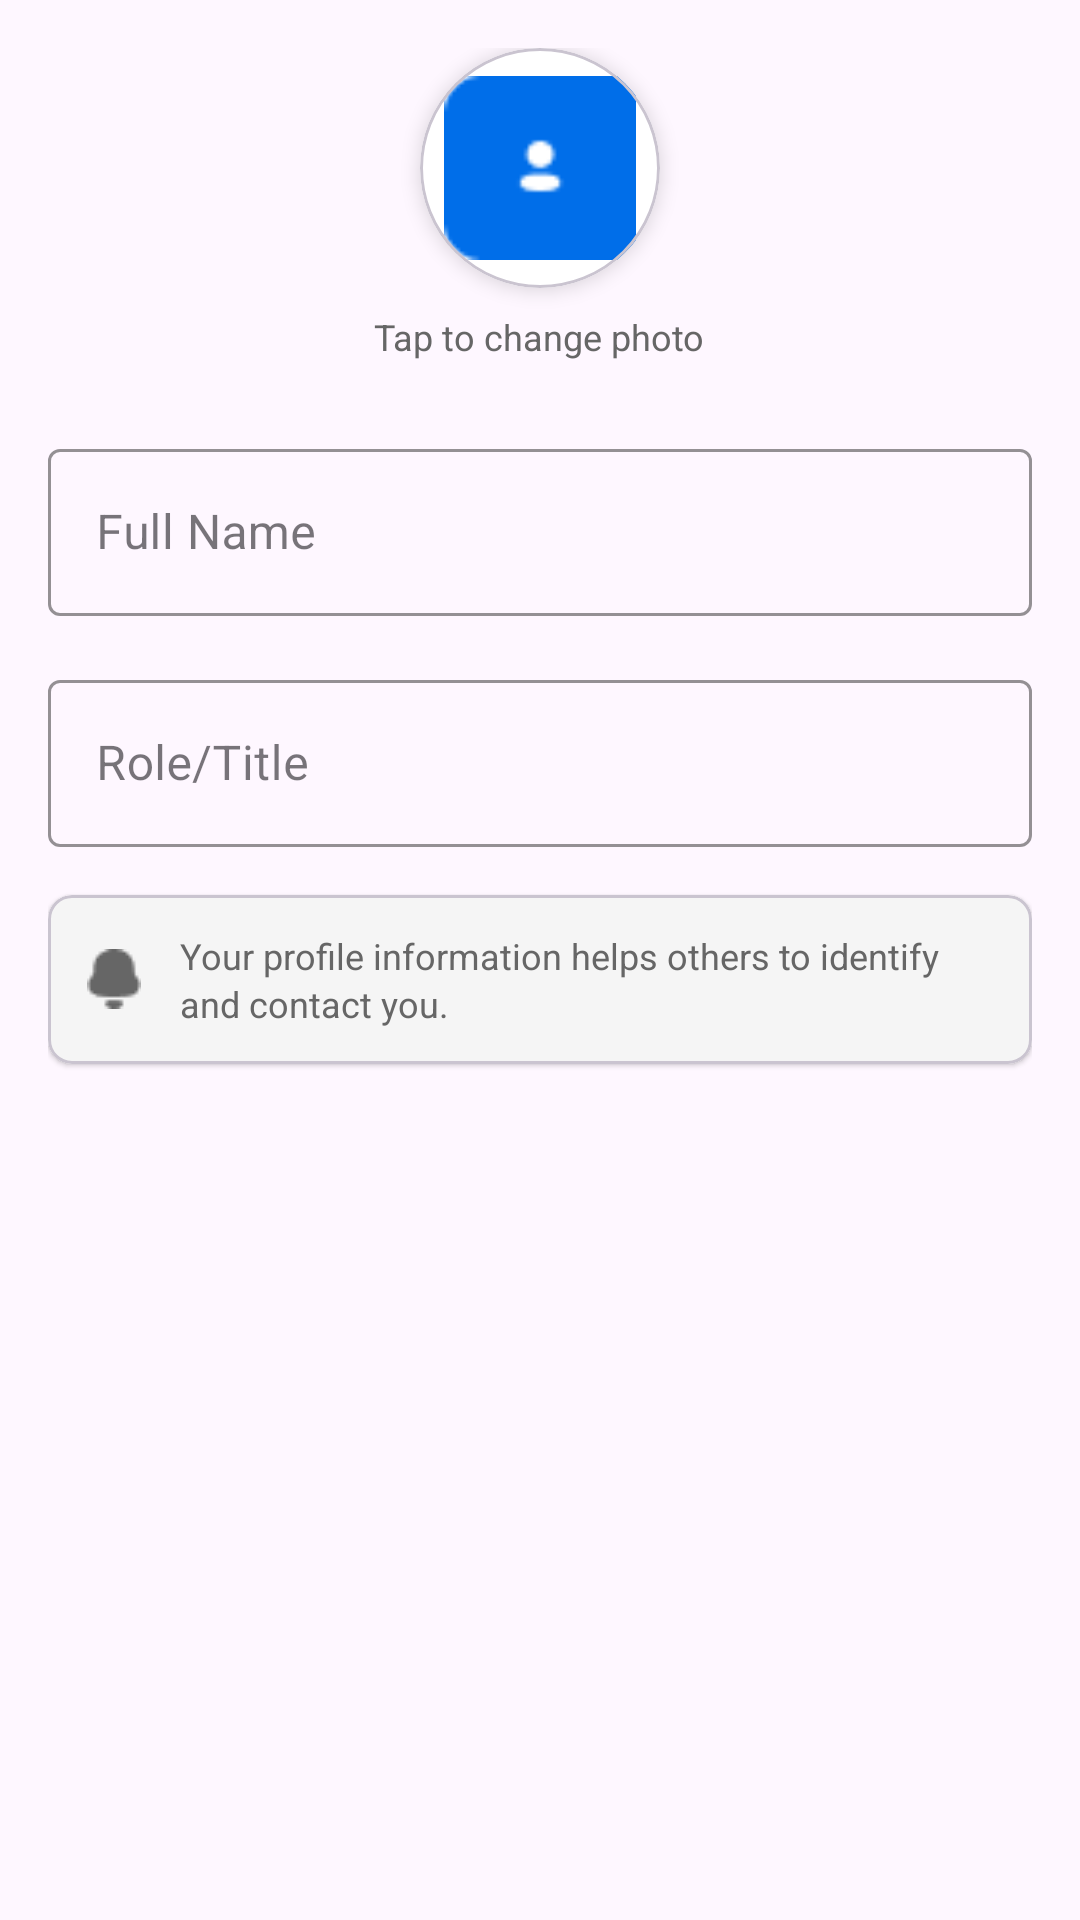

Locate icon controls on the screen. Image size 1080px x 1920px, boxes as (x1,y1,x2,y2).
notification: (87,949,141,1009)
profile: (444,72,636,264)
